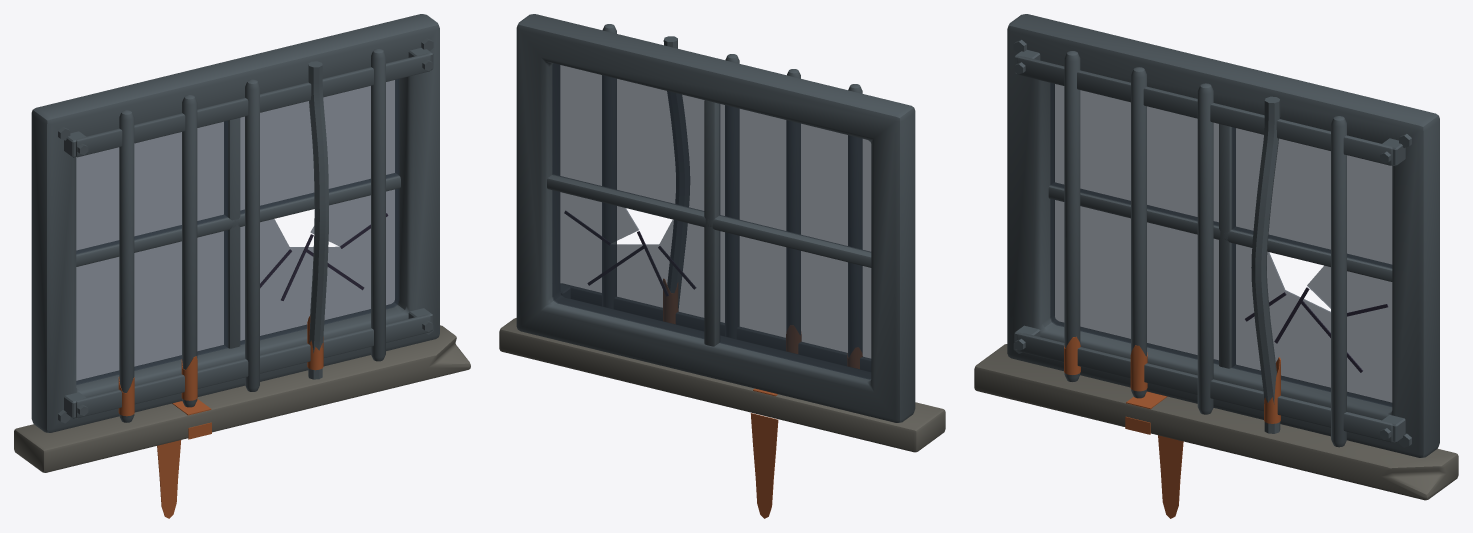
Rendered from barred_window.glb.
3 renders of one model, left to right at view 1: azimuth 30°, elevation 25°; view 2: azimuth 150°, elevation 25°; view 3: azimuth 330°, elevation 25°, orthographic. The views are drawn at different scales.
Parts seen in each view (by area): view 1: Window; view 2: Window; view 3: Window.
Part boxes in pixels (x1,y1,x2,y2): Window: [14, 14, 470, 518]; Window: [499, 14, 945, 518]; Window: [974, 14, 1458, 518].
Bounding box in the file's own units: 1.84 × 1.83 × 0.2878.
